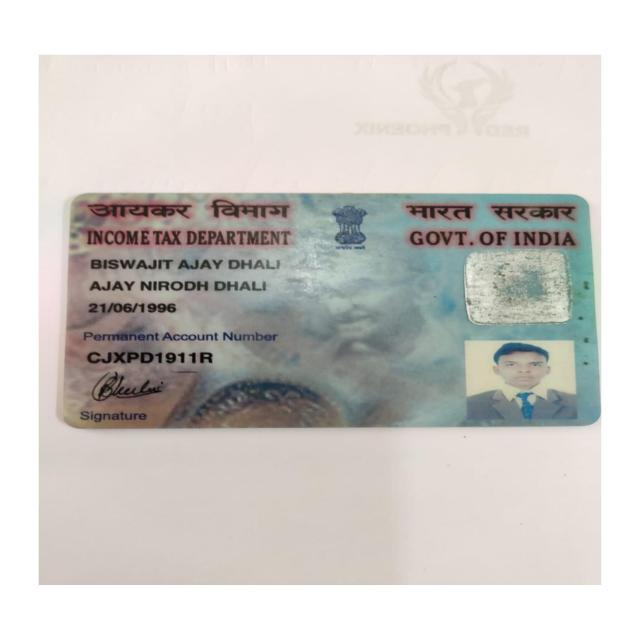pan_card: (71, 196, 591, 427)
